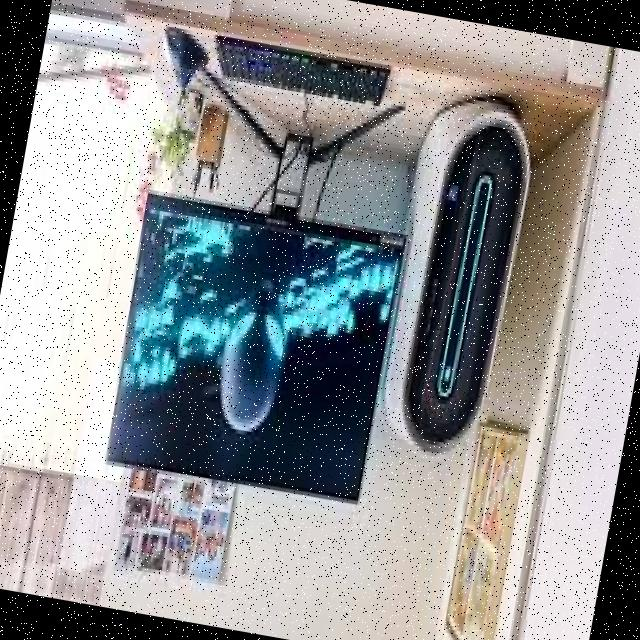Monitor: (86, 175, 414, 526)
